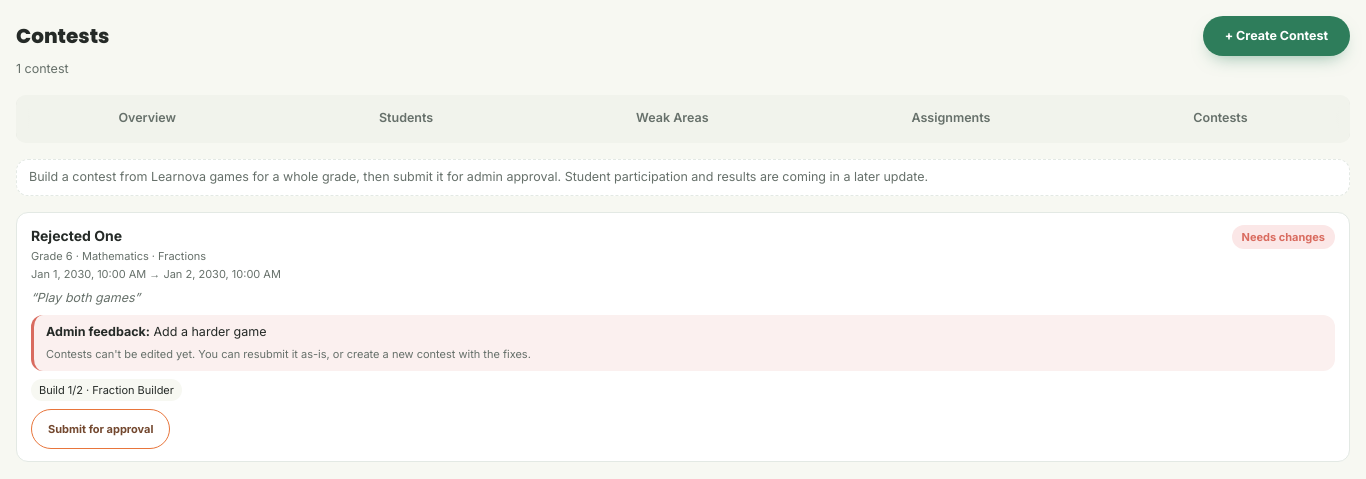
Test: admin review feedback on the teacher's list › a REJECTED contest shows the admin's reason, the no-editing hint, and can be resubmitted
Check: the text "Needs changes" is shown, box [1232, 224, 1335, 249]
Check: the text "Add a harder game" is shown, box [154, 324, 266, 339]
Click the button "Submit for approval" at (101, 429), box [31, 409, 170, 449]
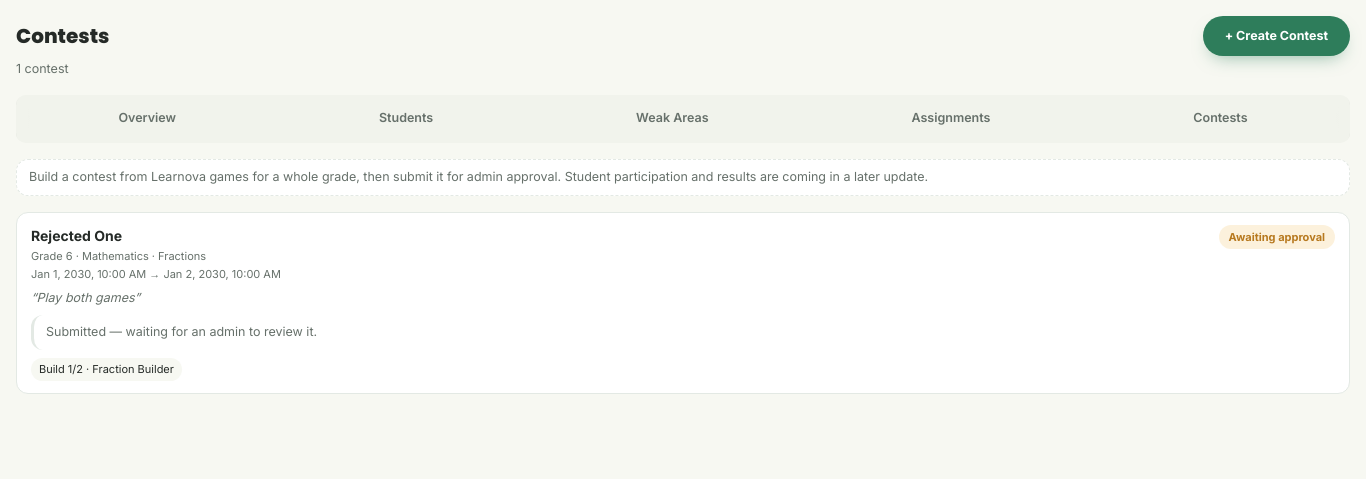
Check: the text "Awaiting approval" is shown, box [1219, 224, 1335, 249]
Check: the text "Add a harder game" is gone
